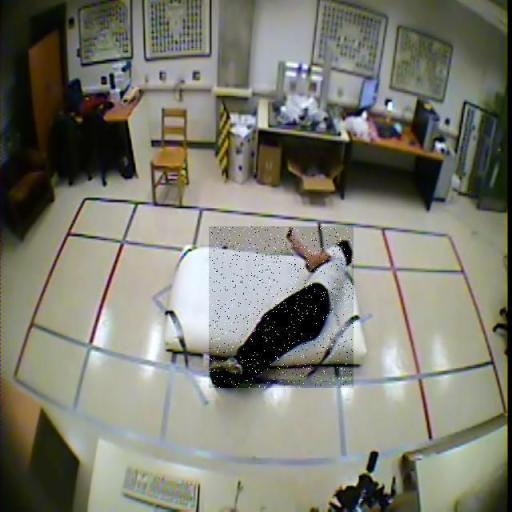Fall: (209, 226, 354, 388)
